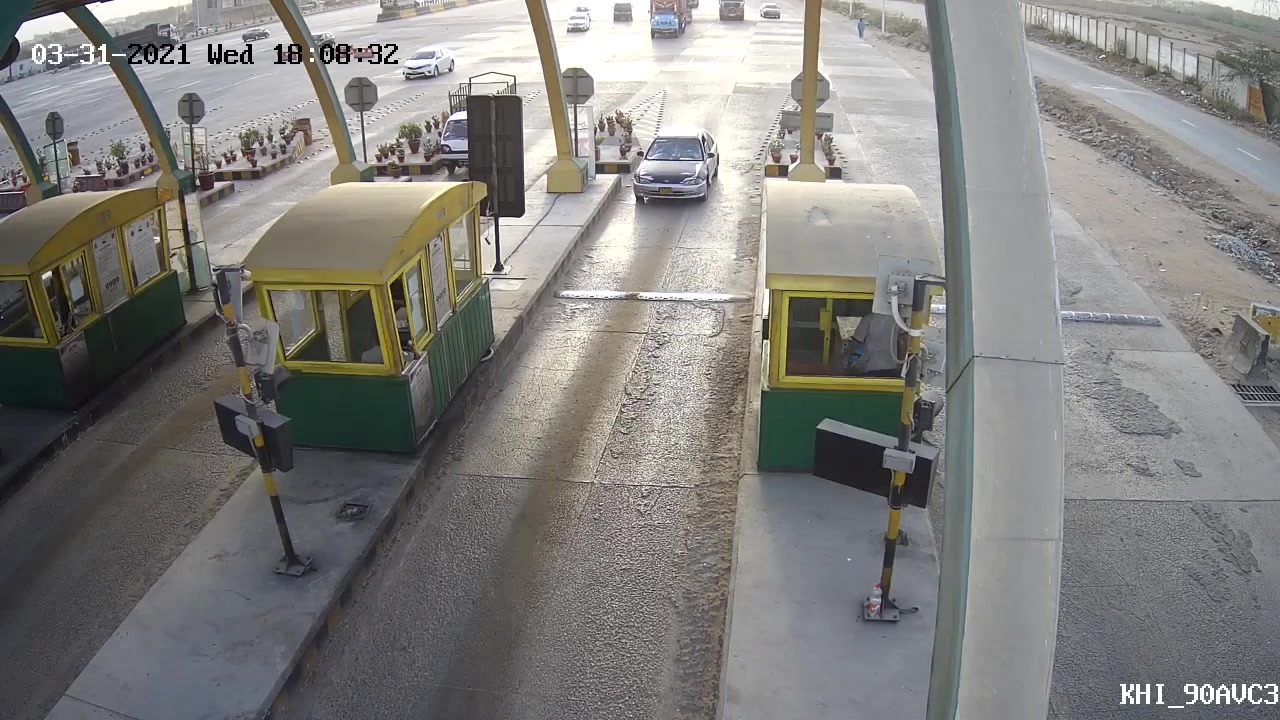F1: (619, 122, 726, 219)
